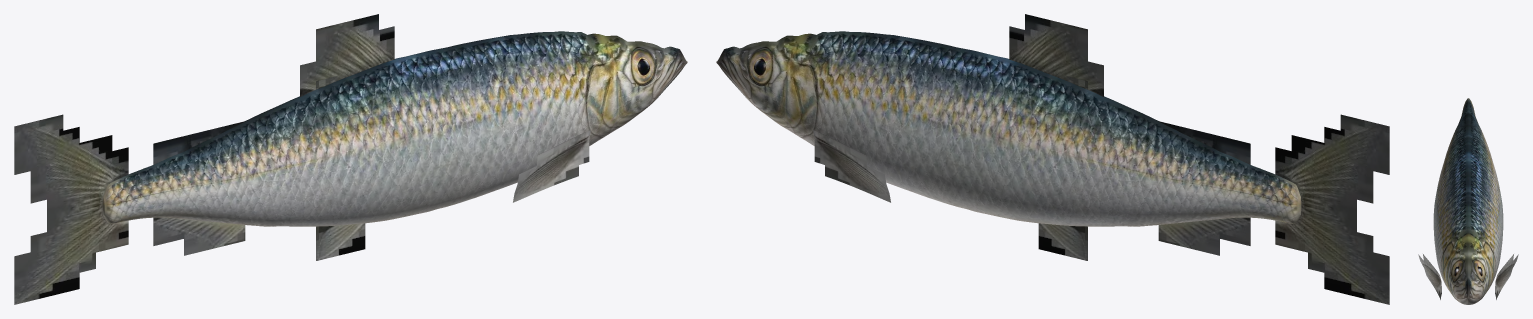
File: real-clupea_harengus.glb
3 renders of one model, left to right at view 1: azimuth 30°, elevation 25°; view 2: azimuth 150°, elevation 25°; view 3: azimuth 270°, elevation 25°, orthographic. The views are drawn at different scales.
Visible parts, largest first — view 1: clupea_harengus; view 2: clupea_harengus; view 3: clupea_harengus.
Boxes of the visible parts, <box> form: clupea_harengus: <box>14,14,687,304</box>; clupea_harengus: <box>716,14,1389,304</box>; clupea_harengus: <box>1418,98,1518,304</box>.
Size of the model in its own units: 0.3005 by 0.0988 by 0.0588.
Materials: 1 (1 with a texture image).
